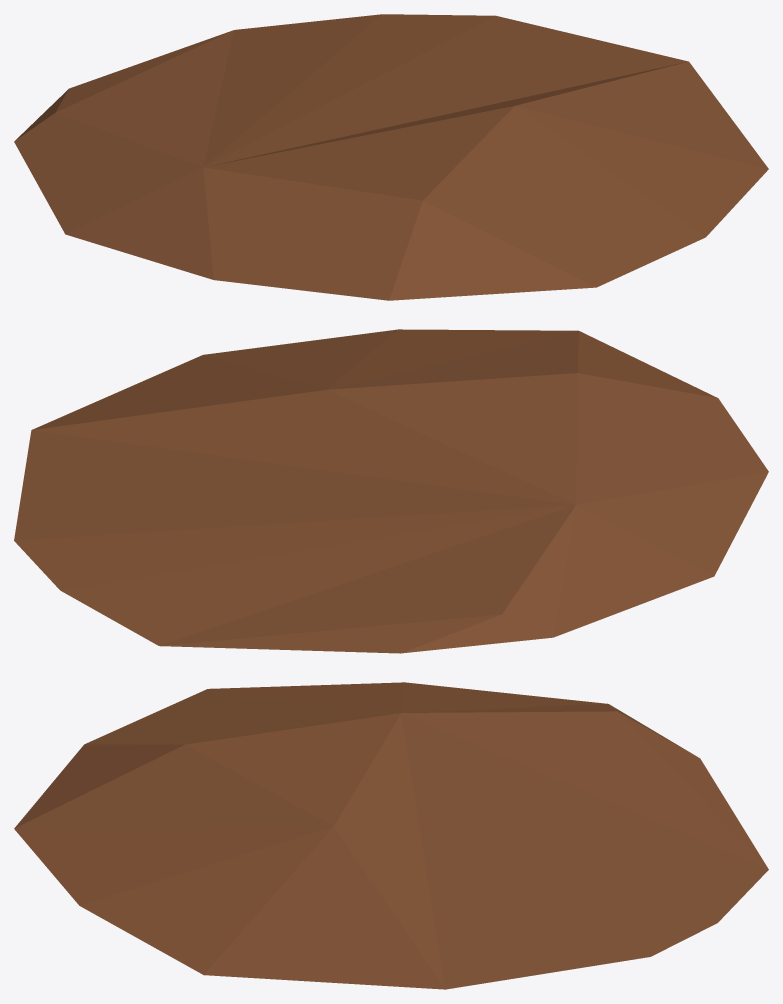
The model's file is SM_Prop_Pot_Large_Soup_01.fbx.
3 renders of one model, top to bottom at view 1: azimuth 30°, elevation 25°; view 2: azimuth 150°, elevation 25°; view 3: azimuth 270°, elevation 25°, orthographic. The views are drawn at different scales.
Parts seen in each view (by area): view 1: SM_Prop_Pot_Large_Soup_01; view 2: SM_Prop_Pot_Large_Soup_01; view 3: SM_Prop_Pot_Large_Soup_01.
Part boxes in pixels (<box>): SM_Prop_Pot_Large_Soup_01: <box>14,14,768,300</box>; SM_Prop_Pot_Large_Soup_01: <box>14,329,768,653</box>; SM_Prop_Pot_Large_Soup_01: <box>14,682,768,989</box>.
Size of the model in its own units: 119 by 13.15 by 124.
